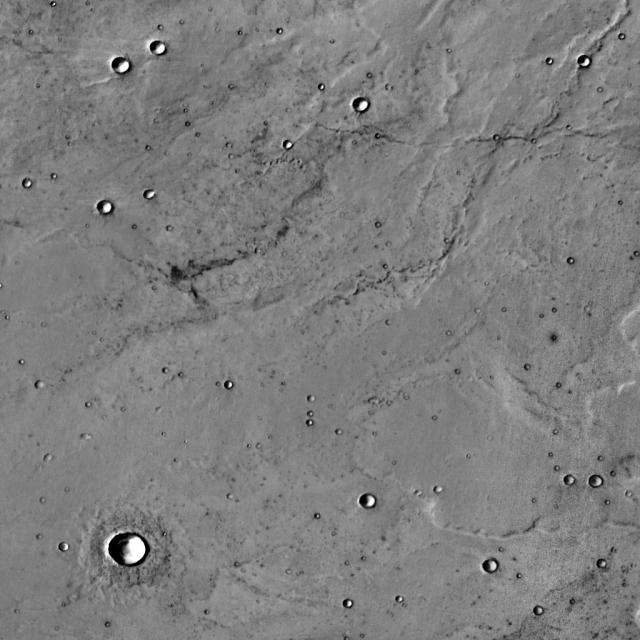crater: (111, 536, 147, 568), (114, 59, 132, 75), (356, 100, 372, 114), (100, 202, 116, 216), (362, 496, 378, 510), (484, 561, 500, 574), (154, 42, 168, 56), (591, 478, 605, 490), (580, 58, 592, 68), (147, 192, 158, 202), (38, 382, 48, 392), (25, 180, 35, 190), (566, 478, 576, 488), (60, 545, 70, 554), (536, 608, 546, 616), (286, 143, 295, 151), (85, 434, 94, 442), (372, 399, 381, 407), (600, 564, 609, 572), (346, 602, 355, 610), (46, 456, 56, 463), (437, 488, 445, 496), (569, 259, 577, 266), (417, 492, 425, 499), (226, 383, 233, 390), (390, 592, 397, 598)
